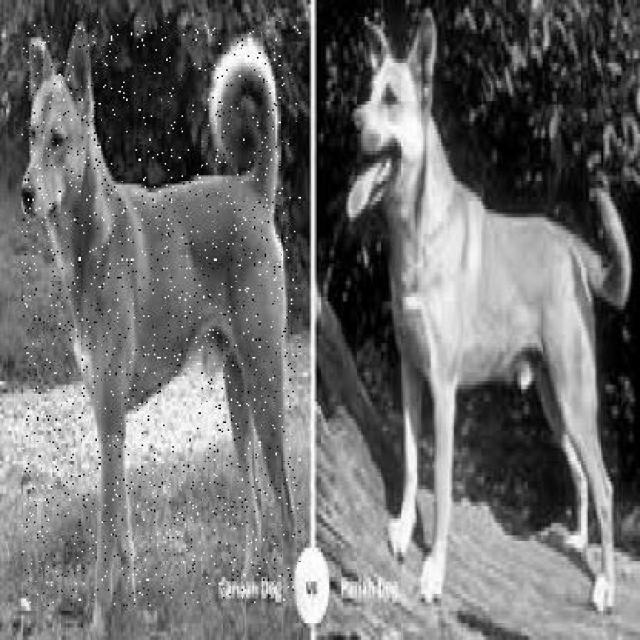Dog: (21, 20, 302, 608)
